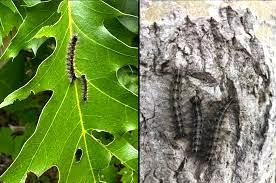Caterpillar: (209, 96, 234, 160), (168, 69, 186, 140), (187, 94, 203, 153), (63, 33, 79, 87), (80, 74, 92, 106)
